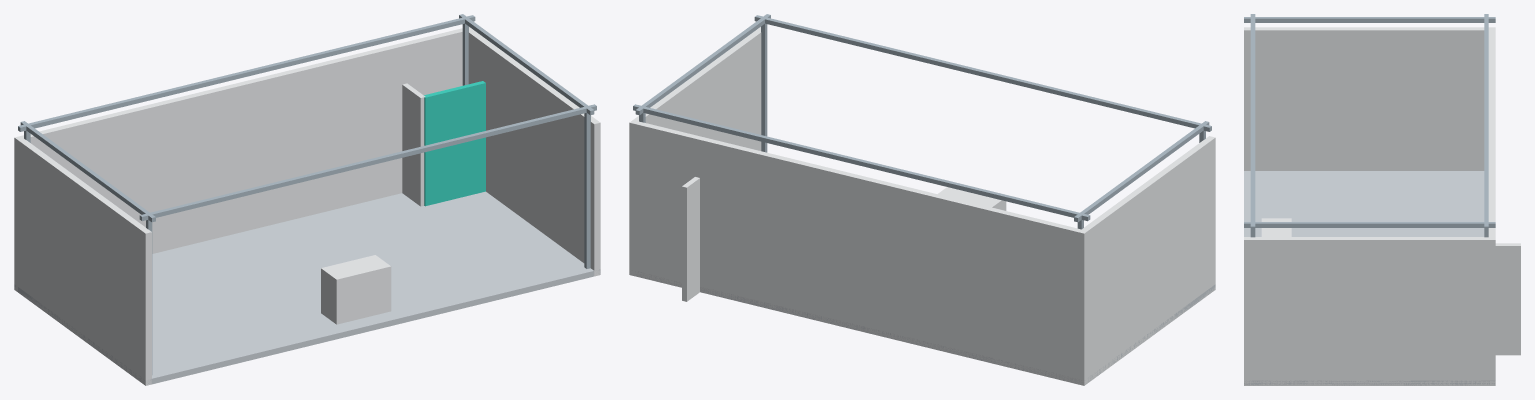
3 renders of one model, left to right at view 1: azimuth 30°, elevation 25°; view 2: azimuth 150°, elevation 25°; view 3: azimuth 270°, elevation 25°, orthographic. The views are drawn at different scales.
Visible parts, largest first — view 1: Exhibition Booth Concept; view 2: Exhibition Booth Concept; view 3: Exhibition Booth Concept.
Part boxes in pixels (bbox=[...]): Exhibition Booth Concept: bbox=[14, 14, 600, 385]; Exhibition Booth Concept: bbox=[629, 14, 1215, 385]; Exhibition Booth Concept: bbox=[1244, 14, 1520, 385].
Bounding box in the file's own units: 10 × 3.49 × 5.51.
